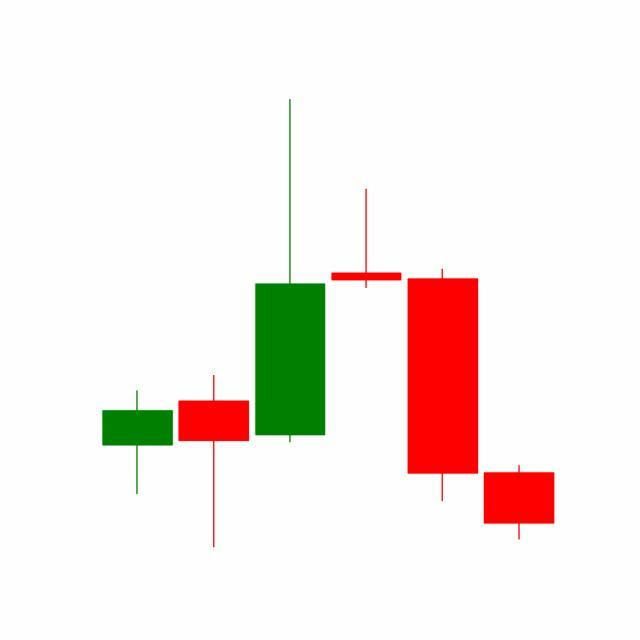Evening Star: (252, 99, 482, 507)
